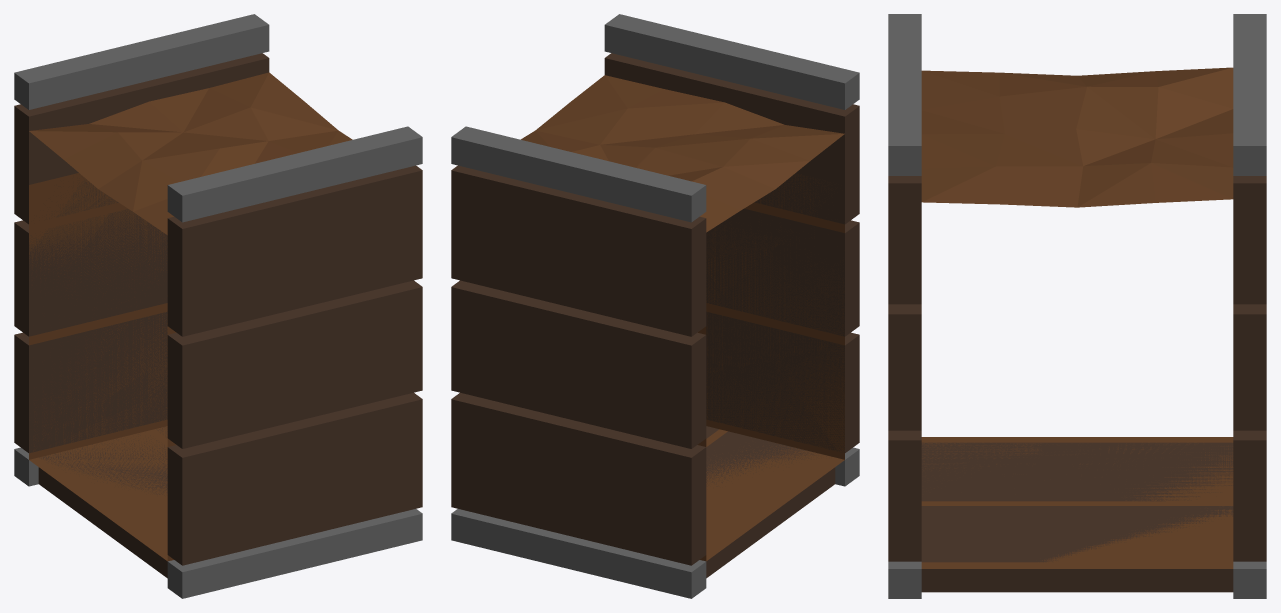
Rendered from PlanterBox_Mid.fbx.
3 renders of one model, left to right at view 1: azimuth 30°, elevation 25°; view 2: azimuth 150°, elevation 25°; view 3: azimuth 270°, elevation 25°, orthographic. The views are drawn at different scales.
Parts seen in each view (by area): view 1: PlanterBox.Mid; view 2: PlanterBox.Mid; view 3: PlanterBox.Mid.
Boxes of the visible parts, box(x1,y1,x2,y2) form: PlanterBox.Mid: box(14, 14, 422, 598); PlanterBox.Mid: box(451, 14, 859, 598); PlanterBox.Mid: box(888, 14, 1266, 598).
Size of the model in its own units: 0.4914 by 0.5958 by 0.7875.
